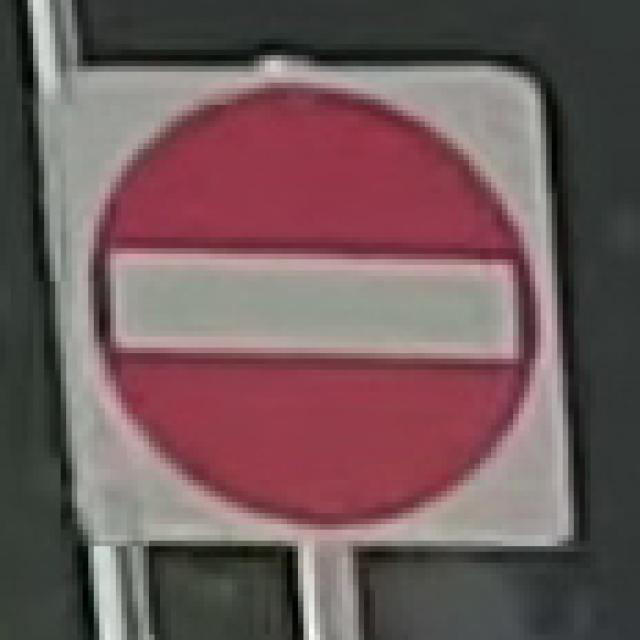noentry_sign: (49, 55, 574, 546)
